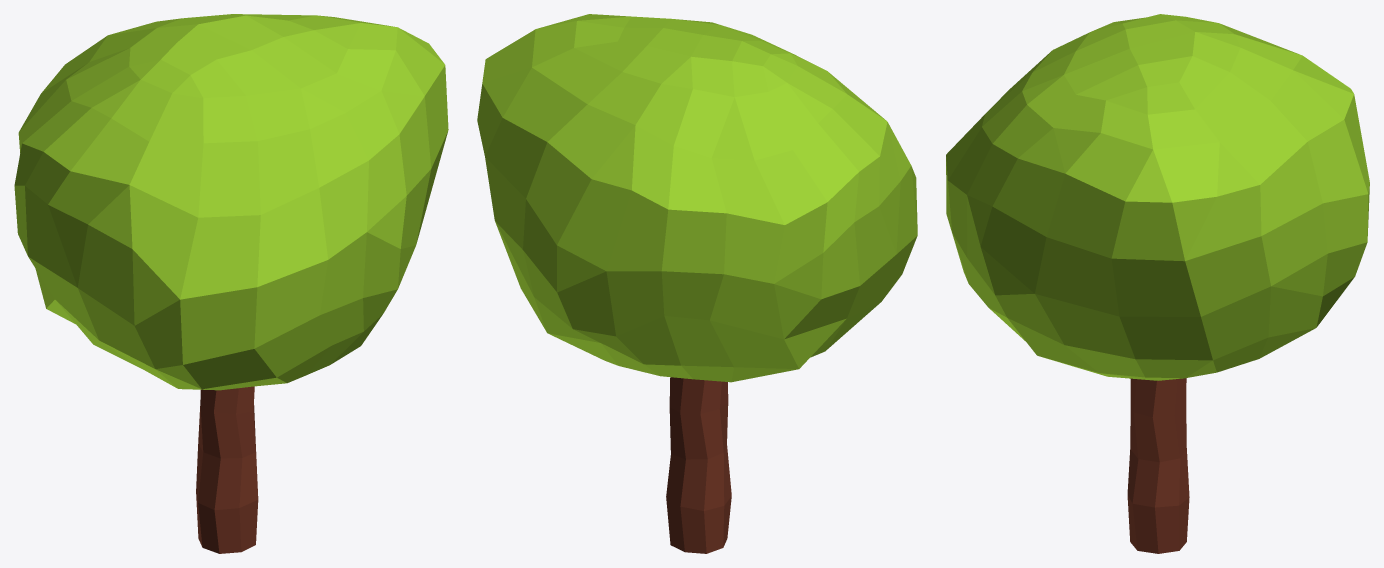
File: maya_export_Tree3_v4.fbx
3 renders of one model, left to right at view 1: azimuth 30°, elevation 25°; view 2: azimuth 150°, elevation 25°; view 3: azimuth 270°, elevation 25°, orthographic.
Visible parts, largest first — view 1: Tree3_v4; view 2: Tree3_v4; view 3: Tree3_v4.
Part boxes in pixels (x1=…): Tree3_v4: x1=14, y1=14, x2=448, y2=553; Tree3_v4: x1=477, y1=14, x2=917, y2=553; Tree3_v4: x1=946, y1=14, x2=1369, y2=553.
Size of the model in its own units: 5.97 by 7.38 by 5.61.
1 material, 1 textured.
